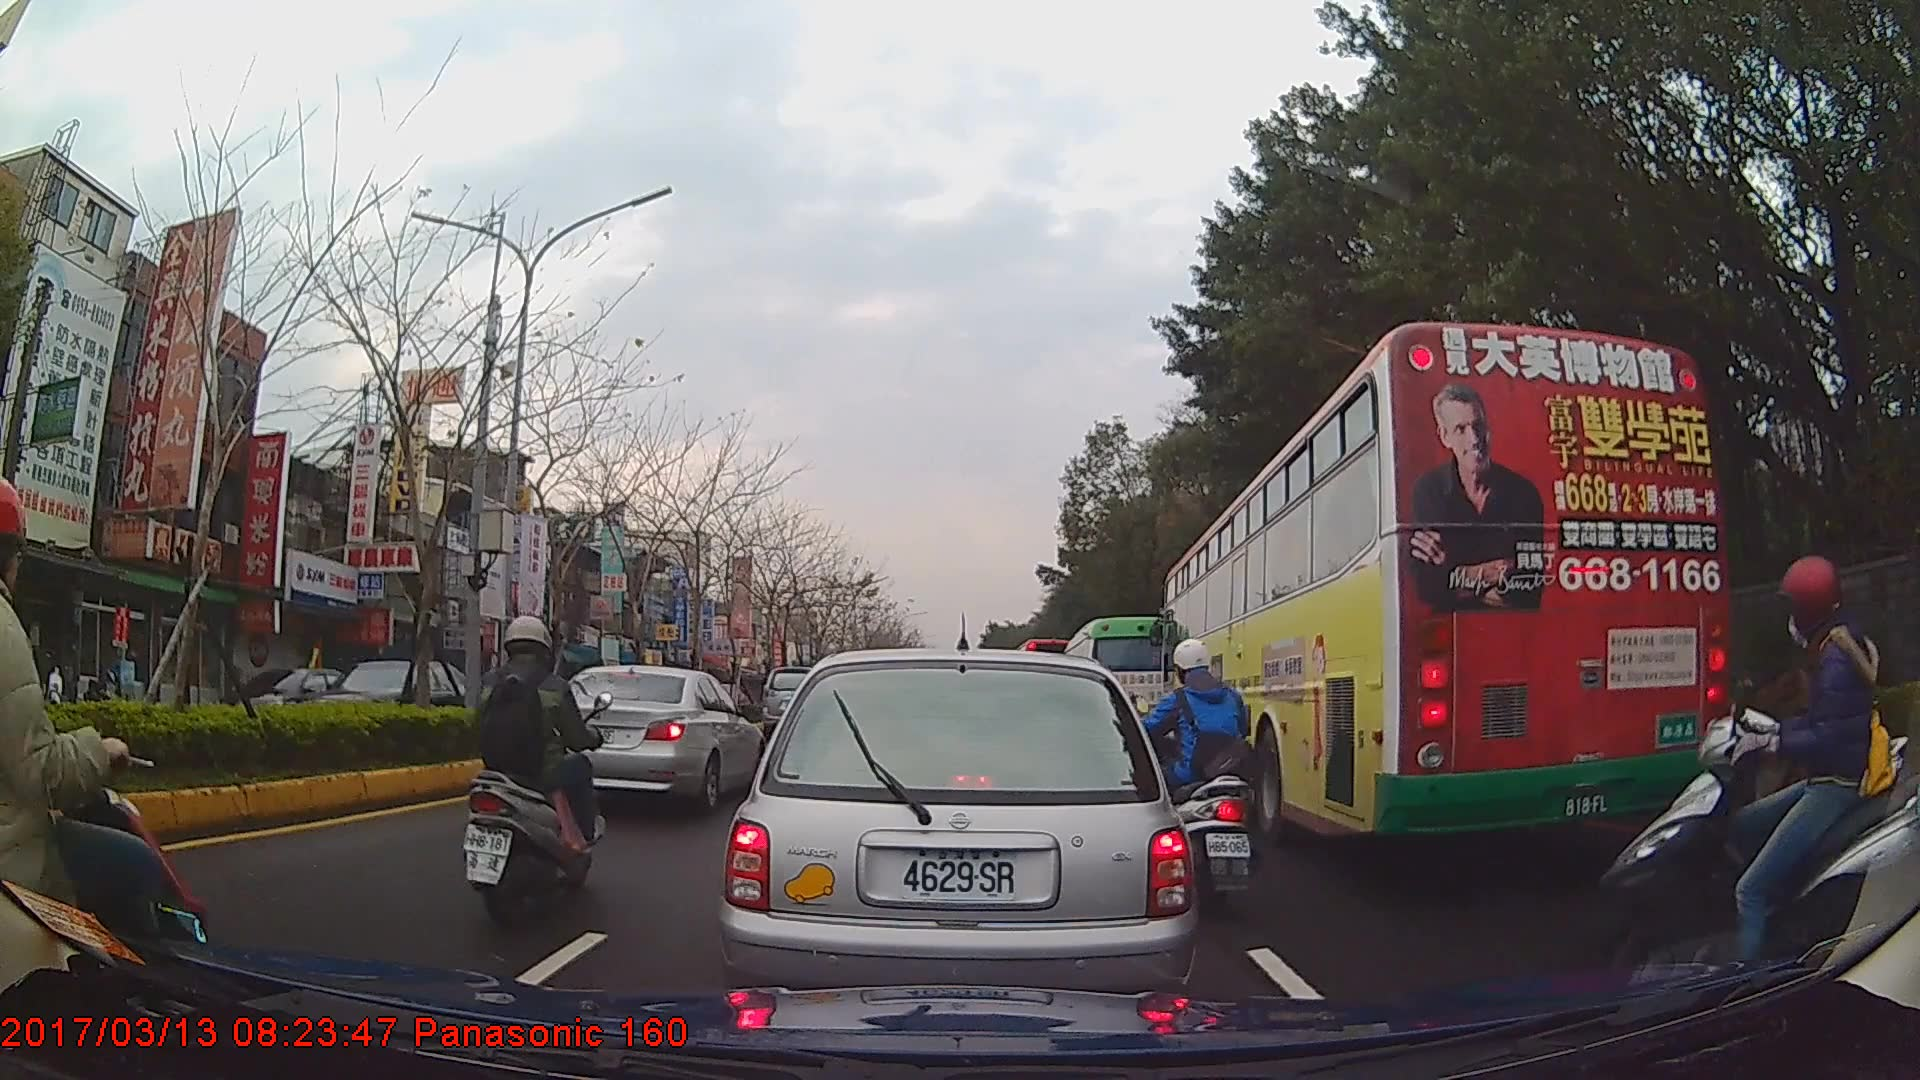rider: (1581, 560, 1920, 1001), (1, 476, 206, 992), (457, 617, 607, 921), (1138, 636, 1260, 914)
vehicle: (1160, 319, 1727, 850), (716, 647, 1196, 1030), (534, 661, 763, 813), (293, 656, 501, 749), (1058, 616, 1187, 763), (198, 659, 398, 736)
